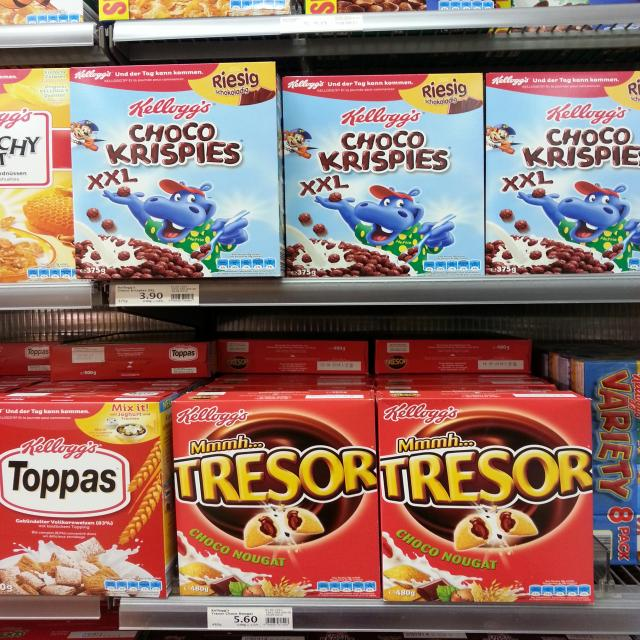Cereals: (375, 374, 596, 596), (171, 385, 382, 600), (70, 65, 278, 279), (284, 70, 482, 280), (0, 384, 167, 598), (486, 72, 640, 276), (1, 67, 90, 281), (210, 341, 368, 377), (44, 346, 202, 377), (368, 343, 526, 374)
